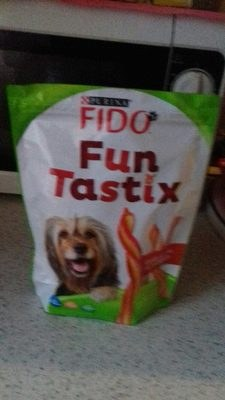150G Fun Tastix Jambon / Fromage Fido: (11, 20, 214, 380)
